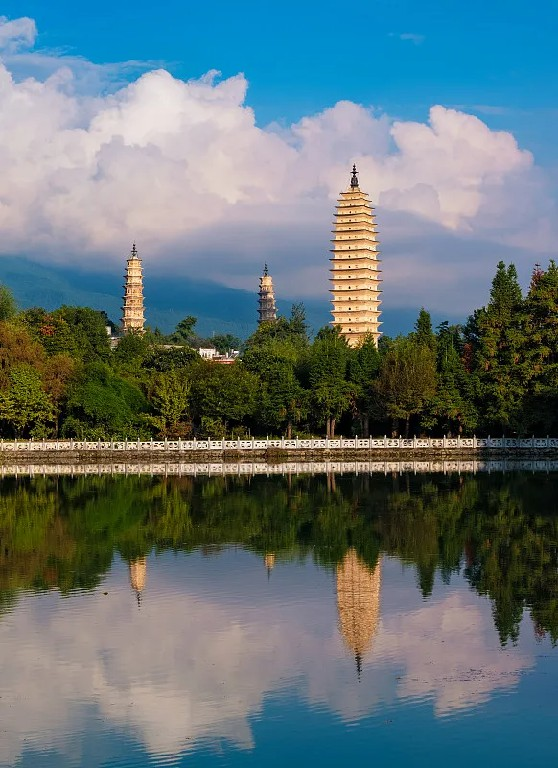ThreePagoda: (329, 163, 383, 346)
